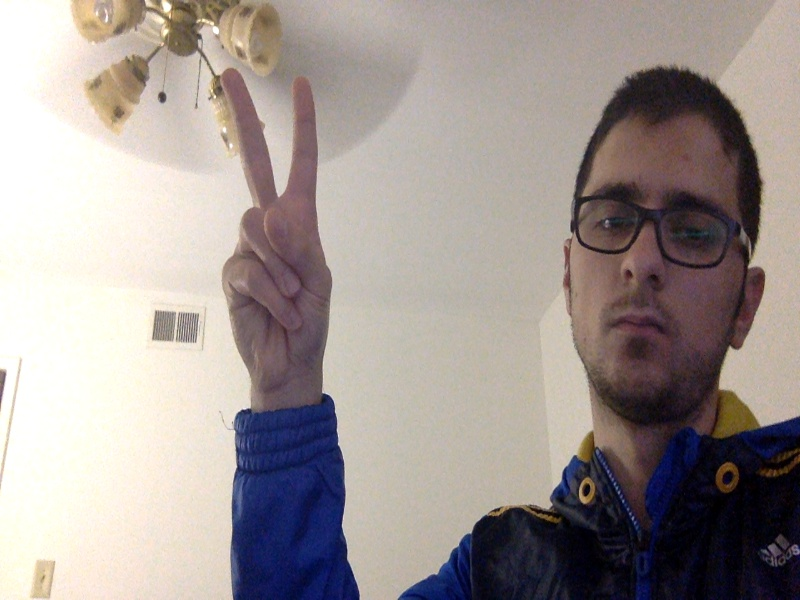2-hand: (221, 63, 331, 387)
